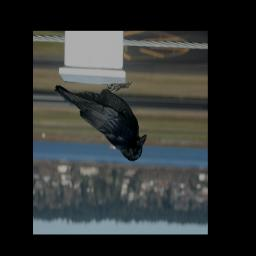Crow: (54, 83, 147, 162)
